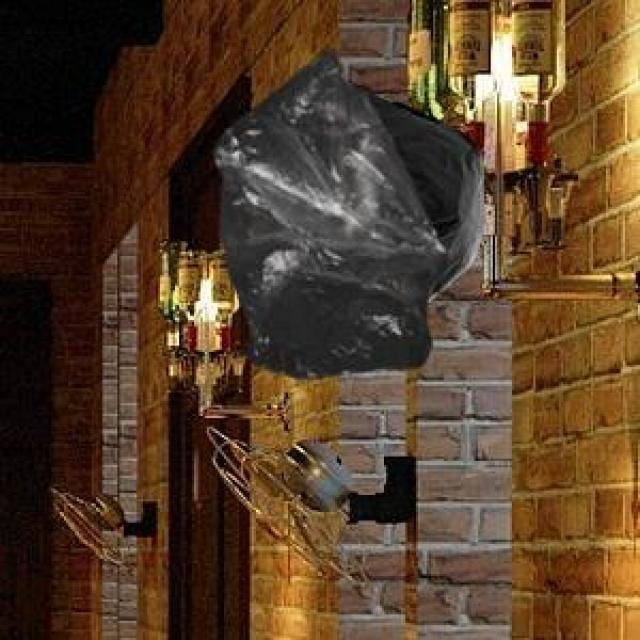miscellaneous trash: (360, 88, 480, 299)
